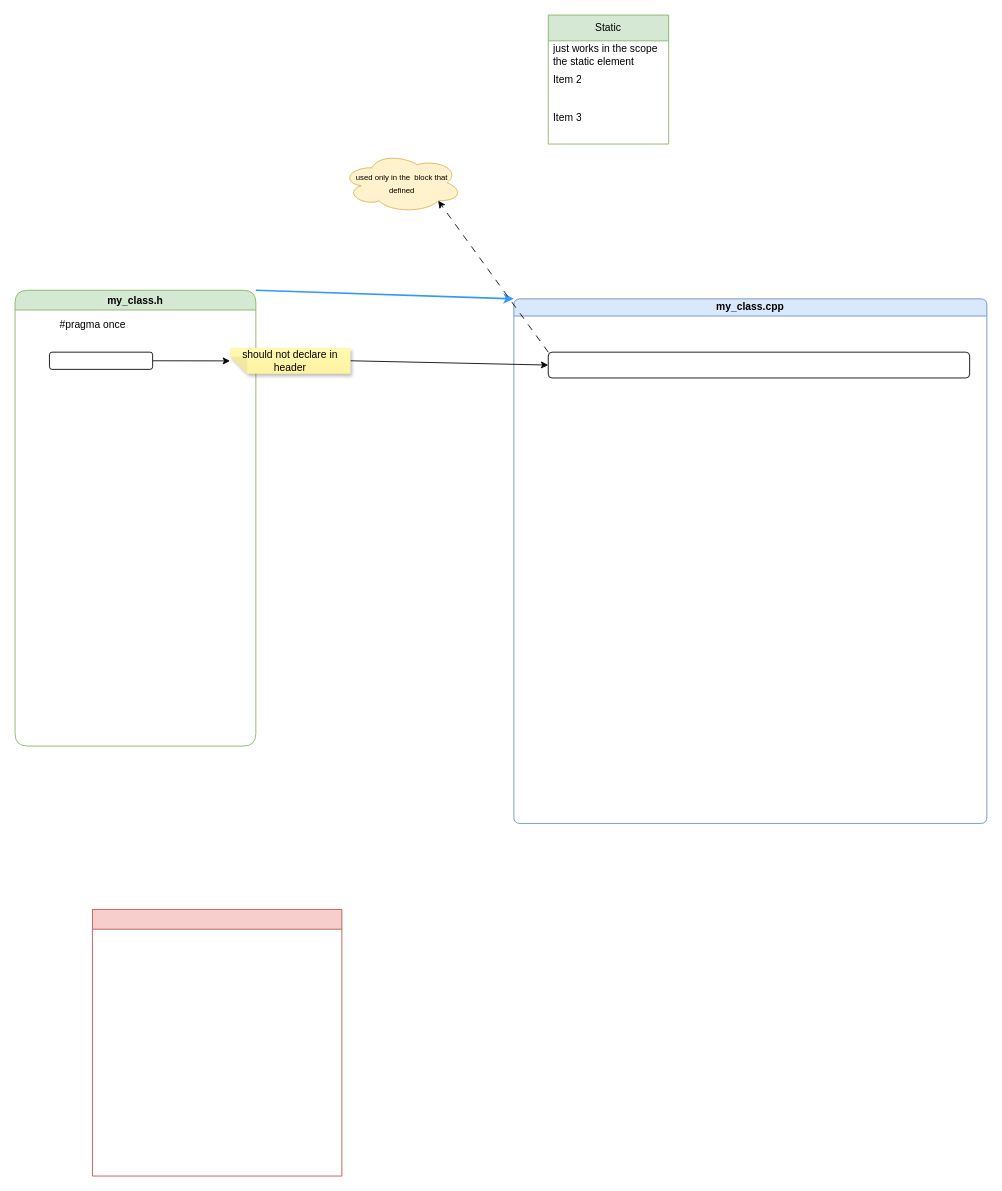
The diagram is 1002 pixels wide and 1191 high, and some of its shapes have lost their labels. The centre of each missing label's shape, as x and y in pixels:
main.cpp: [217,1042]
static void glfw_error_callback ( int error, const char * description): [758,364]
